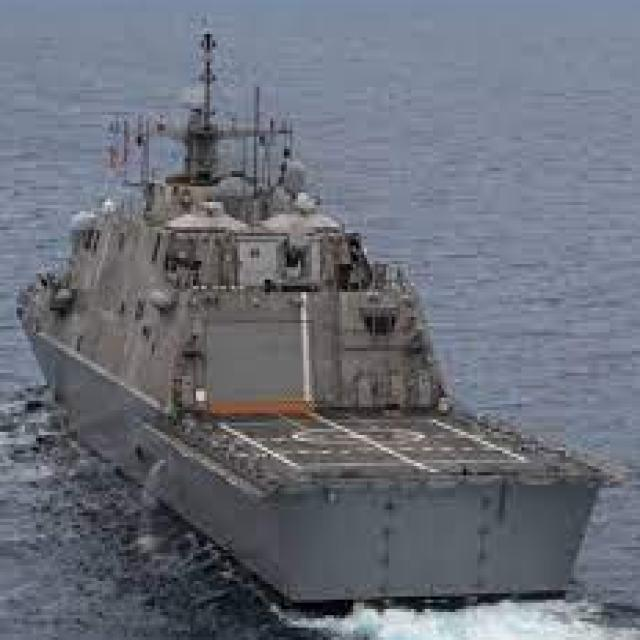navalvessels: (16, 27, 623, 612)
